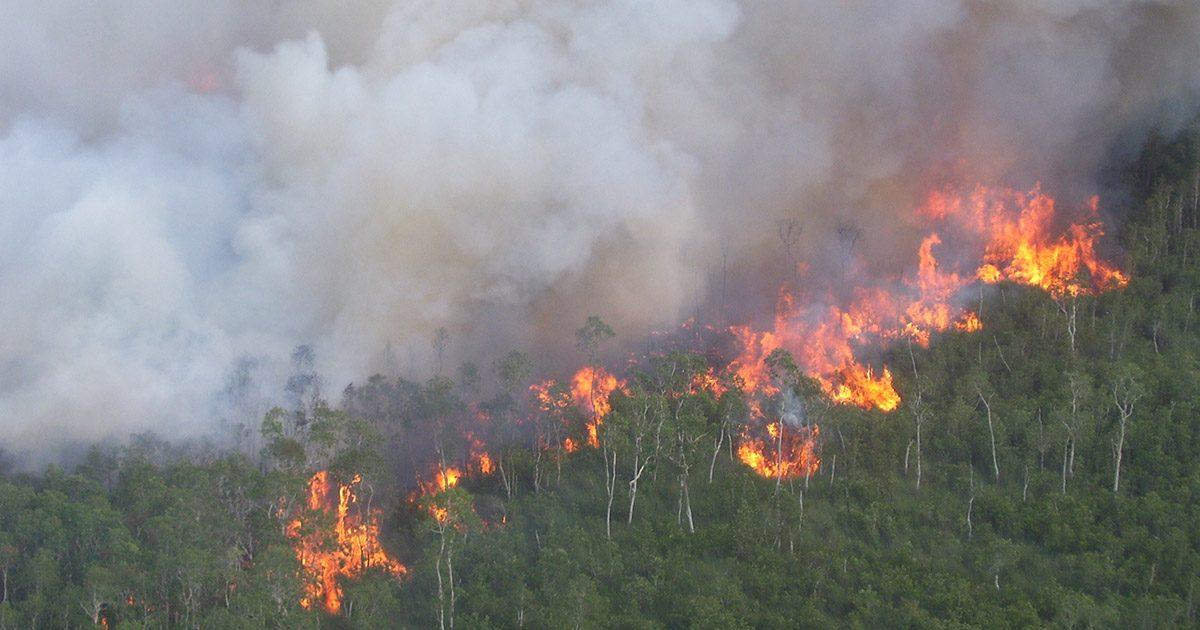fire: (102, 251, 446, 626), (916, 122, 1184, 440), (705, 250, 924, 506), (520, 304, 682, 464)
